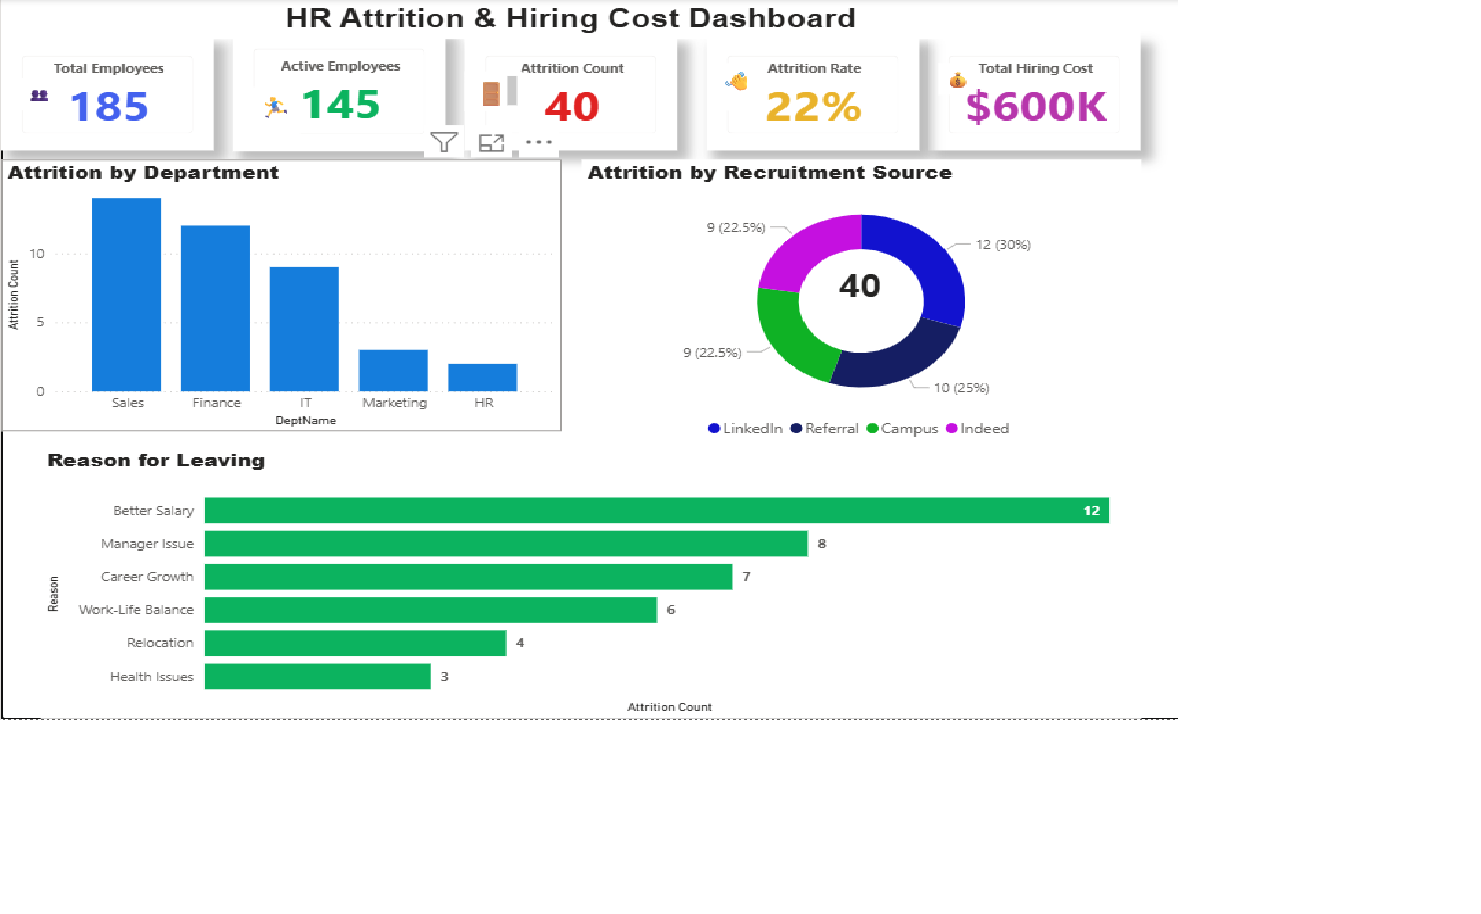

What the dashboard file says about the page in this screenshot:
{"tool":"powerbi","page":{"name":"HR Attrition &Hiring Cost Dashboard","canvas":[1280,720],"ordinal":0},"visuals":[{"type":"textbox","box":[16,16,192,64],"z":0},{"type":"cardVisual","fields":{"Data":["_.Total Employees"]},"box":[0,40,176,112],"z":1000},{"type":"cardVisual","fields":{"Data":["_.Active Employees"]},"box":[192,32,176,120],"z":2000},{"type":"cardVisual","fields":{"Data":["_.Total Replacement Cost"]},"box":[768,40,176,112],"z":3000},{"type":"cardVisual","fields":{"Data":["_.Attrition Rate","select"]},"box":[584,40,176,112],"z":4000},{"type":"cardVisual","fields":{"Data":["_.Attrition Count"]},"box":[384,40,176,112],"z":5000},{"type":"textbox","box":[0,0,944,40],"z":6000},{"type":"clusteredColumnChart","title":"Attrition by Department","fields":{"Category":["Dim_Department.DeptName"],"Y":["_.Attrition Count"]},"box":[0,160,464,272],"z":7000},{"type":"donutChart","title":"Attrition by Recruitment Source","fields":{"Category":["Dim_Recruitment_Source.SourceName"],"Y":["_.Attrition Count"]},"box":[480,160,464,288],"z":8000},{"type":"clusteredBarChart","title":"Reason for Leaving","fields":{"Category":["Fact_Attrition_log.Reason"],"Y":["_.Attrition Count"]},"box":[32,448,912,272],"z":9000},{"type":"textbox","box":[679.6,264.4,64,48],"z":10000},{"type":"textbox","box":[16,80,32,32],"z":11000},{"type":"textbox","box":[776,64,32,32],"z":12000},{"type":"textbox","box":[592,64,32,48],"z":13000},{"type":"textbox","box":[384,72,48,40],"z":14000},{"type":"textbox","box":[208,88,40,48],"z":15000}]}

Visuals, with their boxes on the page's 1280x720 design canvas (x1, y1, x2, y2). These are canvas units, not pixel positions in the 1481x914 screenshot, which may show the page scaled, cropped or inside an application window:
textbox: {"x1": 16, "y1": 16, "x2": 208, "y2": 80}
cardVisual - _.Total Employees: {"x1": 0, "y1": 40, "x2": 176, "y2": 152}
cardVisual - _.Active Employees: {"x1": 192, "y1": 32, "x2": 368, "y2": 152}
cardVisual - _.Total Replacement Cost: {"x1": 768, "y1": 40, "x2": 944, "y2": 152}
cardVisual - _.Attrition Rate x select: {"x1": 584, "y1": 40, "x2": 760, "y2": 152}
cardVisual - _.Attrition Count: {"x1": 384, "y1": 40, "x2": 560, "y2": 152}
textbox: {"x1": 0, "y1": 0, "x2": 944, "y2": 40}
"Attrition by Department" clusteredColumnChart: {"x1": 0, "y1": 160, "x2": 464, "y2": 432}
"Attrition by Recruitment Source" donutChart: {"x1": 480, "y1": 160, "x2": 944, "y2": 448}
"Reason for Leaving" clusteredBarChart: {"x1": 32, "y1": 448, "x2": 944, "y2": 720}
textbox: {"x1": 680, "y1": 264, "x2": 744, "y2": 312}
textbox: {"x1": 16, "y1": 80, "x2": 48, "y2": 112}
textbox: {"x1": 776, "y1": 64, "x2": 808, "y2": 96}
textbox: {"x1": 592, "y1": 64, "x2": 624, "y2": 112}
textbox: {"x1": 384, "y1": 72, "x2": 432, "y2": 112}
textbox: {"x1": 208, "y1": 88, "x2": 248, "y2": 136}
